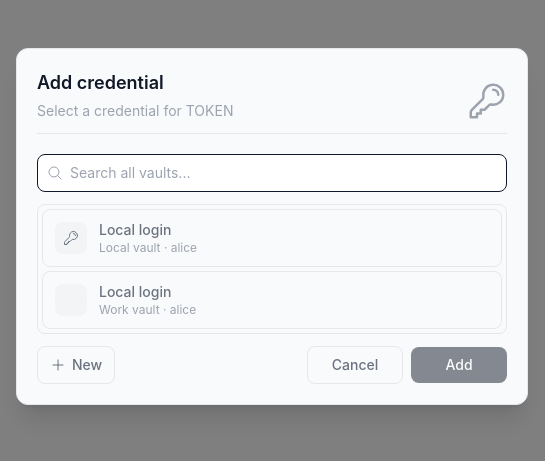
Test: unified credential picker › blocks submission on field failure and retries selection
The width and height of the screenshot is (545, 461).
Click the button named "Local login, Local vault": (71, 238) x1=42 y1=208 x2=502 y2=266
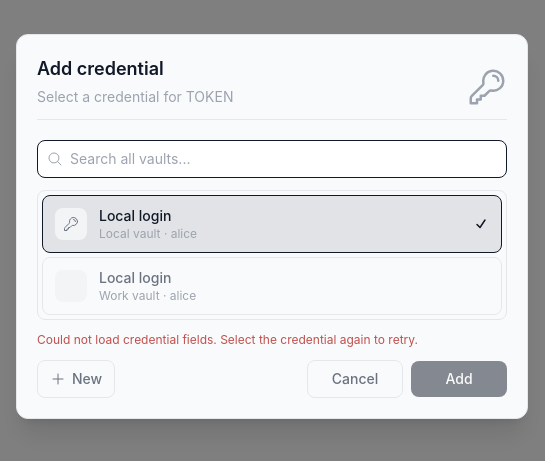
Expected: the button "Add" is disabled, x1=411 y1=360 x2=507 y2=396
Expected: the message shows "Could not load credential fields", x1=37 y1=332 x2=418 y2=346
Click the button named "Local login, Local vault": (71, 224) x1=42 y1=194 x2=502 y2=252
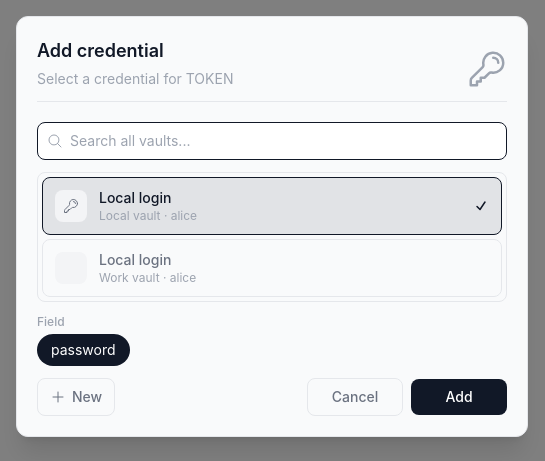
Expected: the button "Add" is enabled, x1=411 y1=378 x2=507 y2=414
Expected: the message "Could not load credential fields. Select the credential again to retry." is gone
